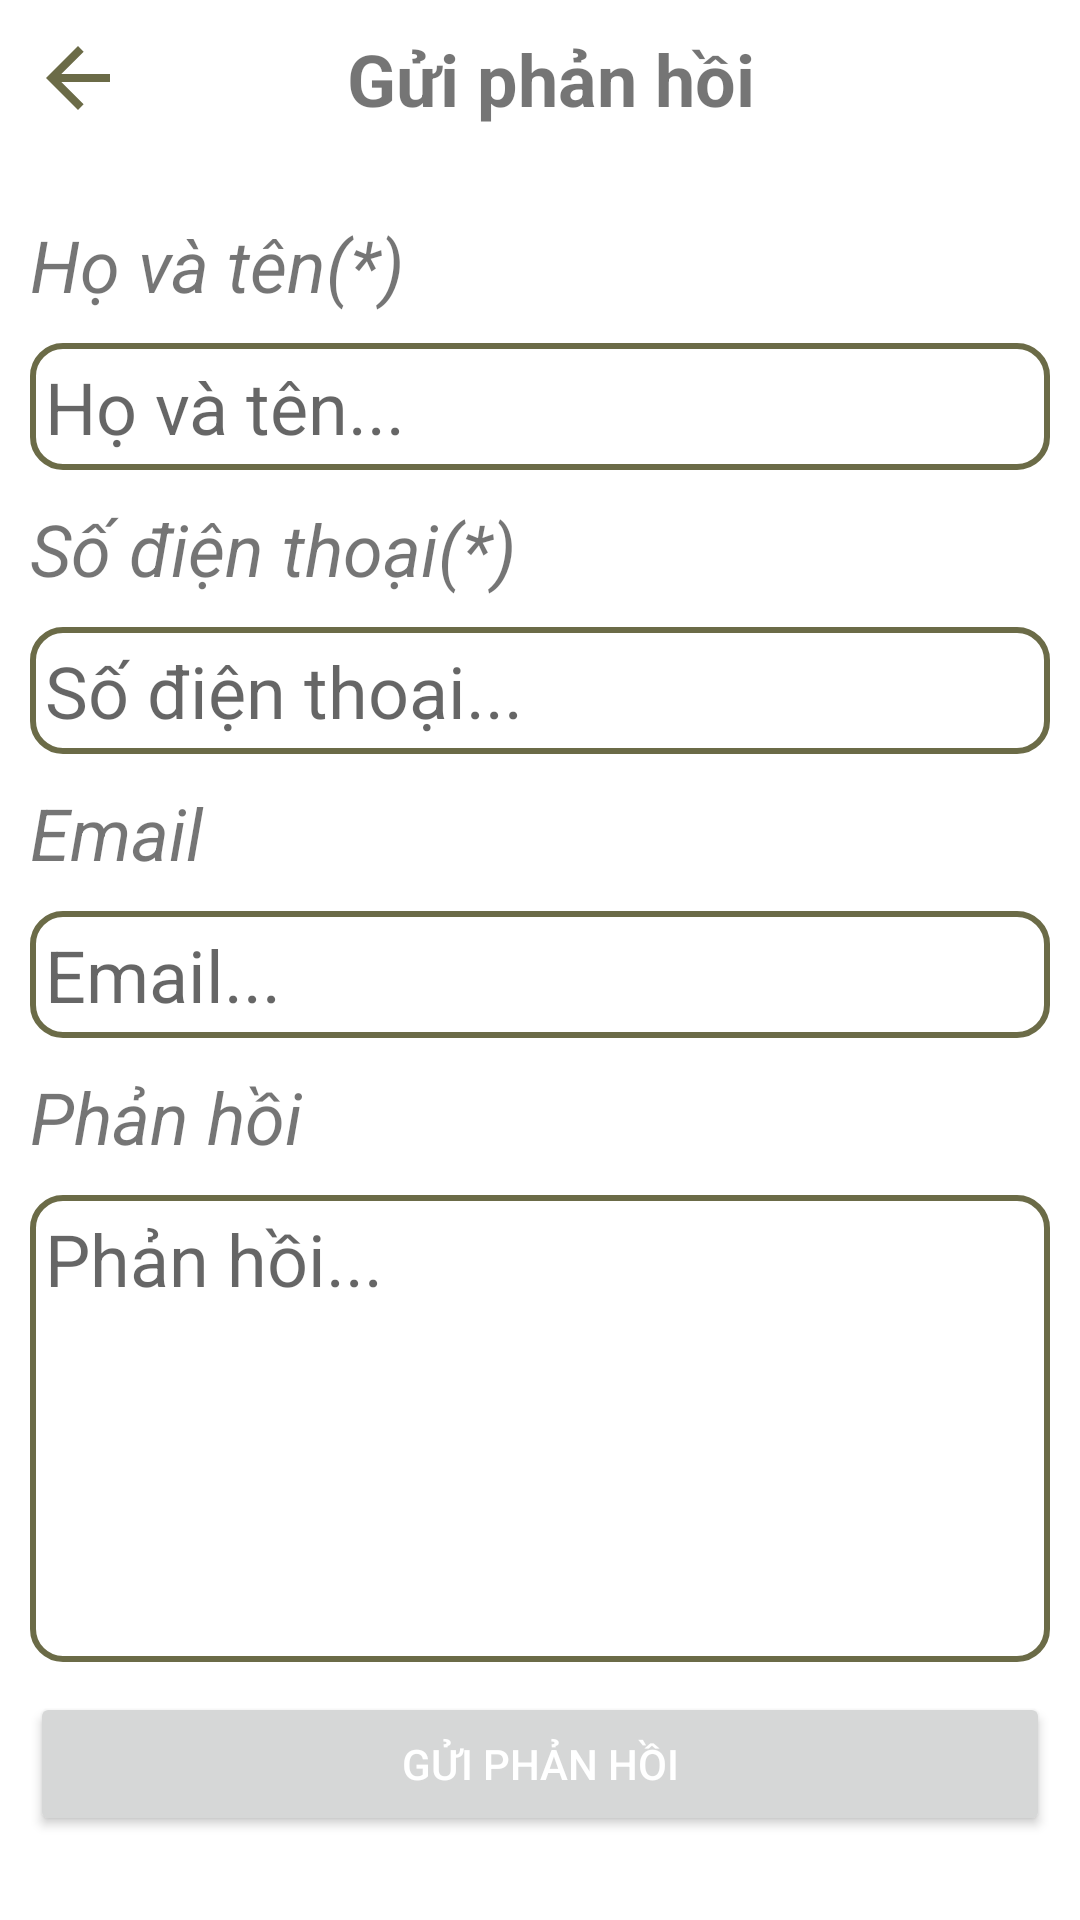

Where icons sit on this 1080w x 1920h app screen, as (x1, y1, x2, y2):
back: (46, 46, 110, 110)
